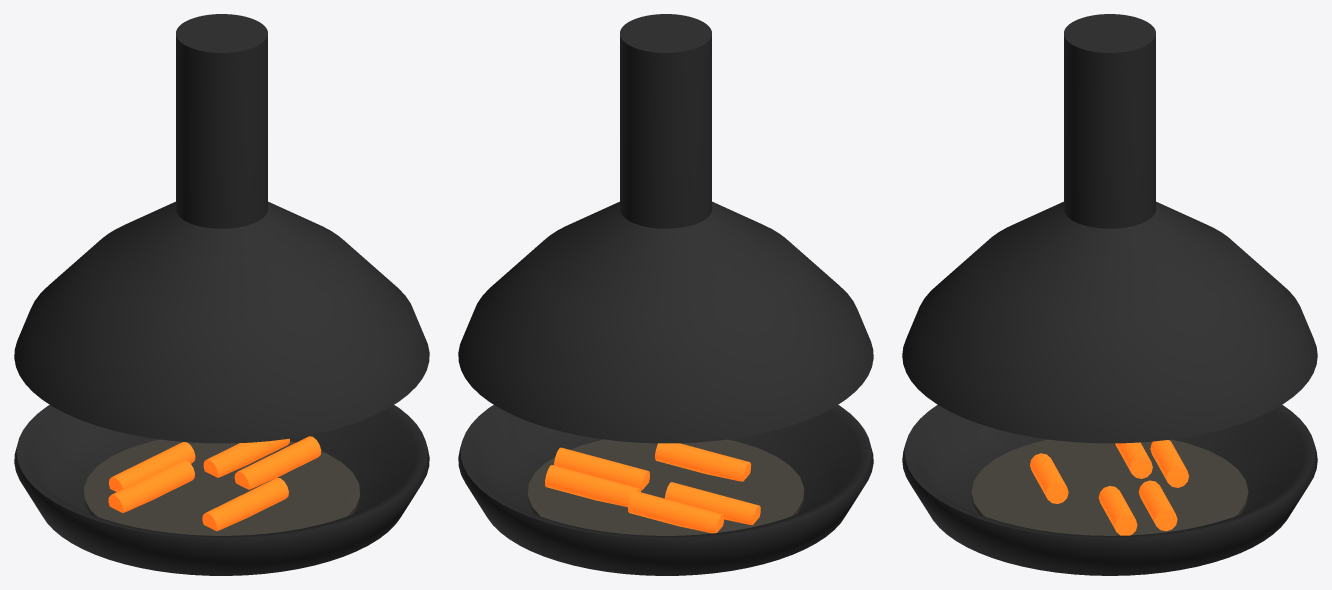
File: floating-fireplace-lod0.glb
The picture shows the model from 3 angles, left to right: view 1: azimuth 30°, elevation 25°; view 2: azimuth 150°, elevation 25°; view 3: azimuth 270°, elevation 25°; orthographic projection.
Visible parts, largest first — view 1: floating-fireplace.lod0__fireplace graphite, floating-fireplace.lod0__fireplace ash, floating-fireplace.lod0__fireplace ember; view 2: floating-fireplace.lod0__fireplace graphite, floating-fireplace.lod0__fireplace ash, floating-fireplace.lod0__fireplace ember; view 3: floating-fireplace.lod0__fireplace graphite, floating-fireplace.lod0__fireplace ash, floating-fireplace.lod0__fireplace ember.
Part boxes in pixels (x1,y1,x2,y2): floating-fireplace.lod0__fireplace graphite: [14, 14, 429, 575]; floating-fireplace.lod0__fireplace ash: [83, 439, 360, 535]; floating-fireplace.lod0__fireplace ember: [108, 436, 321, 531]; floating-fireplace.lod0__fireplace graphite: [458, 14, 873, 575]; floating-fireplace.lod0__fireplace ash: [527, 439, 804, 535]; floating-fireplace.lod0__fireplace ember: [545, 443, 760, 533]; floating-fireplace.lod0__fireplace graphite: [902, 14, 1317, 575]; floating-fireplace.lod0__fireplace ash: [971, 439, 1248, 535]; floating-fireplace.lod0__fireplace ember: [1030, 440, 1188, 535].
Bounding box in the file's own units: 0.9 × 1.19 × 0.9.
